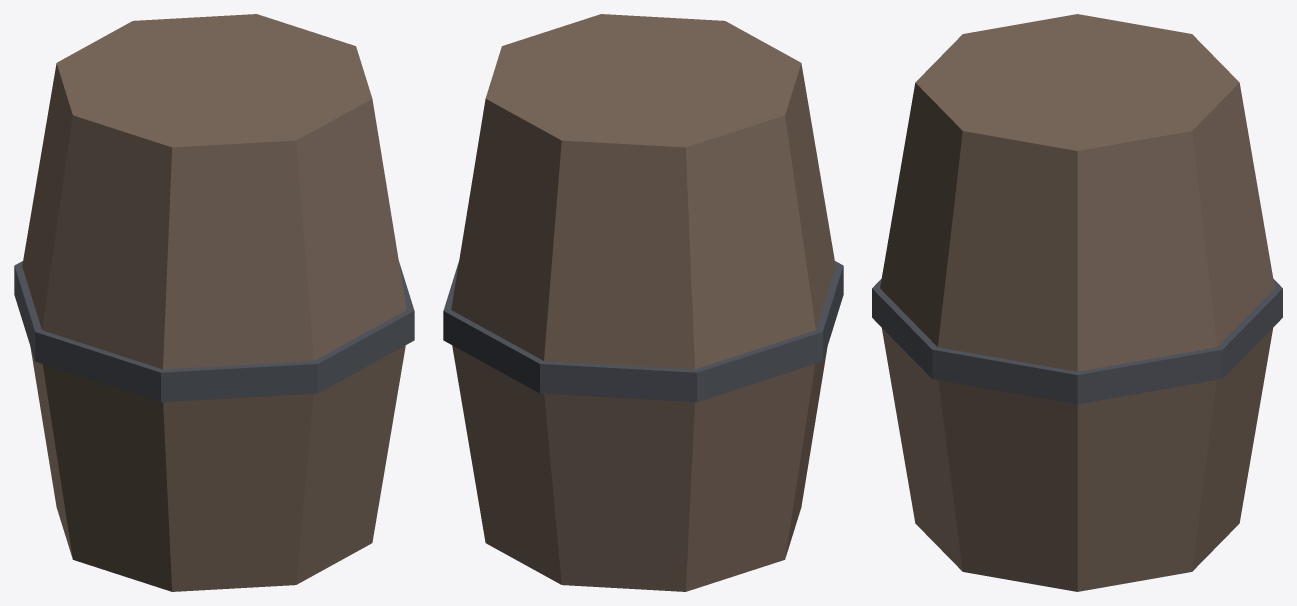
The model's file is barril.glb.
3 renders of one model, left to right at view 1: azimuth 30°, elevation 25°; view 2: azimuth 150°, elevation 25°; view 3: azimuth 270°, elevation 25°, orthographic.
Visible parts, largest first — view 1: Barril; view 2: Barril; view 3: Barril.
Part boxes in pixels (left/top/right/bottom): Barril: left=14, top=14, right=414, bottom=591; Barril: left=443, top=14, right=843, bottom=591; Barril: left=872, top=14, right=1282, bottom=591.
Bounding box in the file's own units: 0.76 × 0.9 × 0.76.
